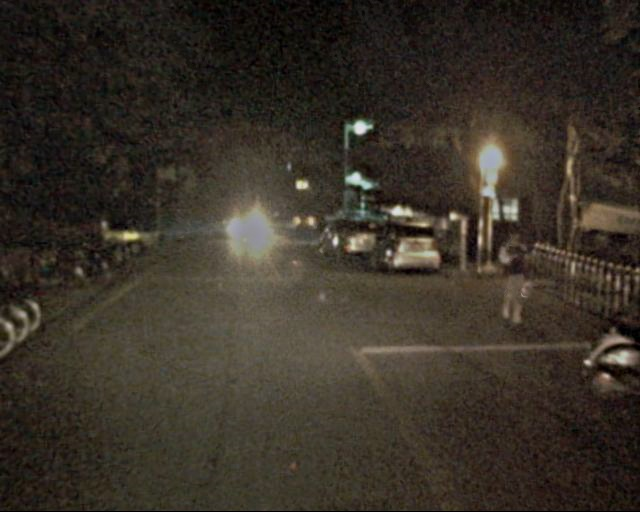person: (491, 228, 536, 328)
